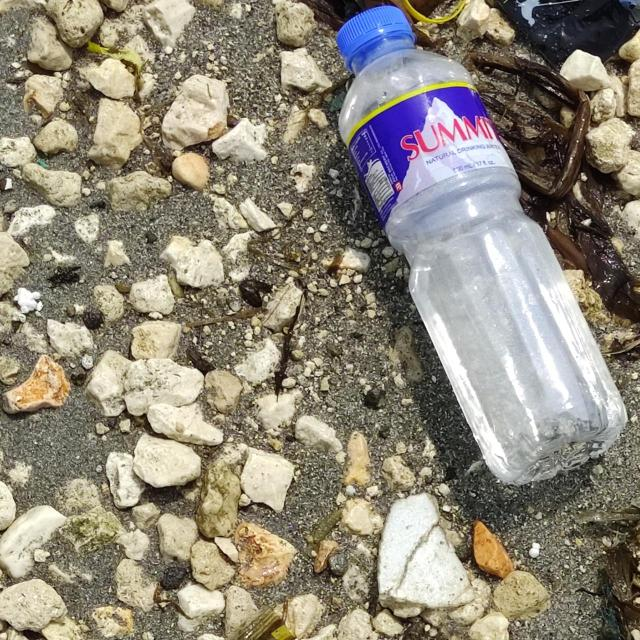plastic_waste: (337, 2, 631, 488)
